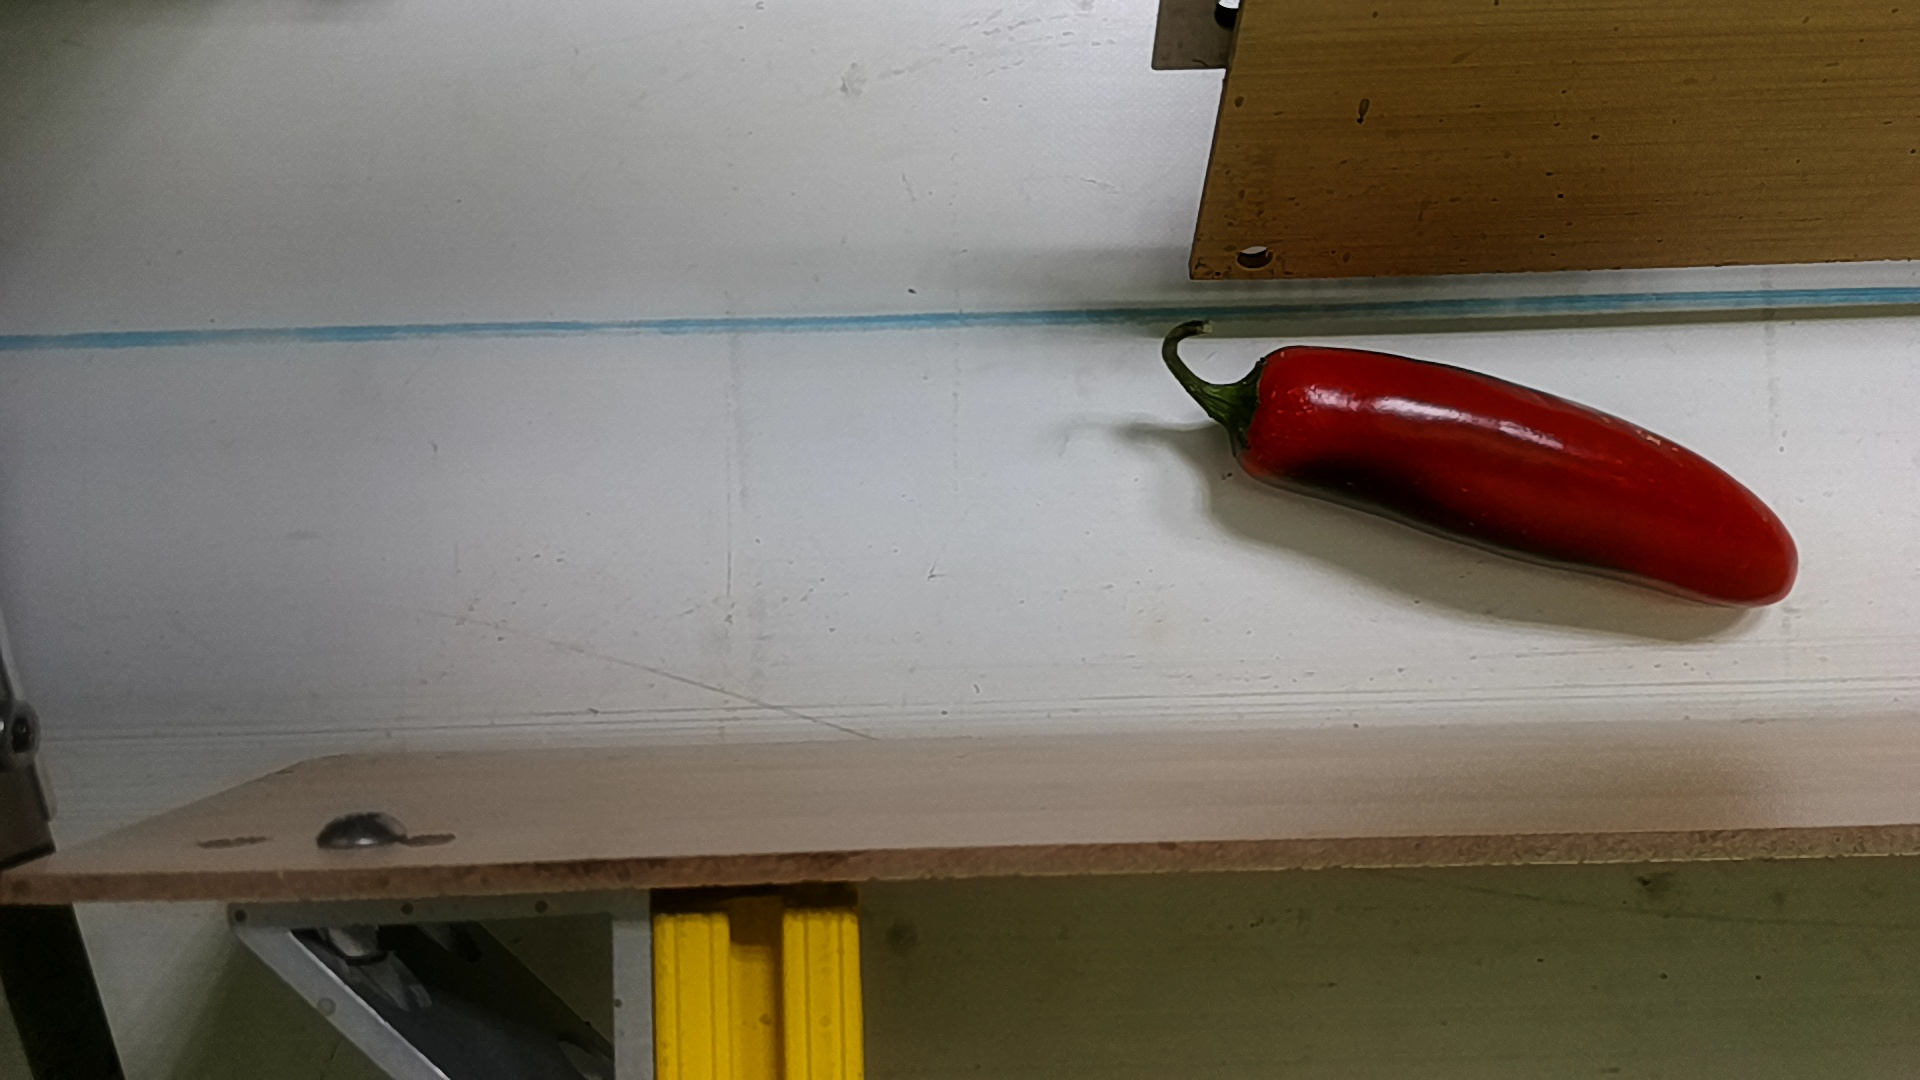Cut Point: (1217, 338, 1309, 501)
